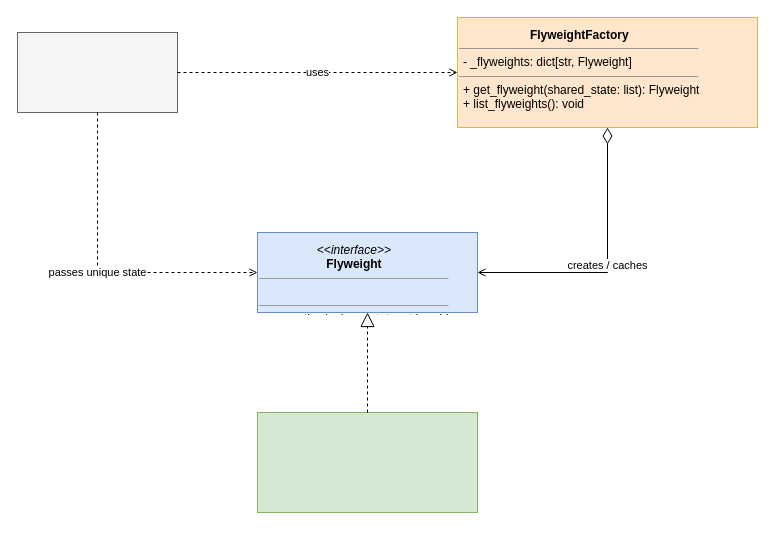
The diagram is 775 pixels wide and 533 high, and some of its shapes have lost their labels. Each missing label, with the centre of its shape:
"Client + add_to_database(...): void" goes at [97,72].
"ConcreteFlyweight - _shared_state: tuple + operation(unique_state: str): void" goes at [367,462].
